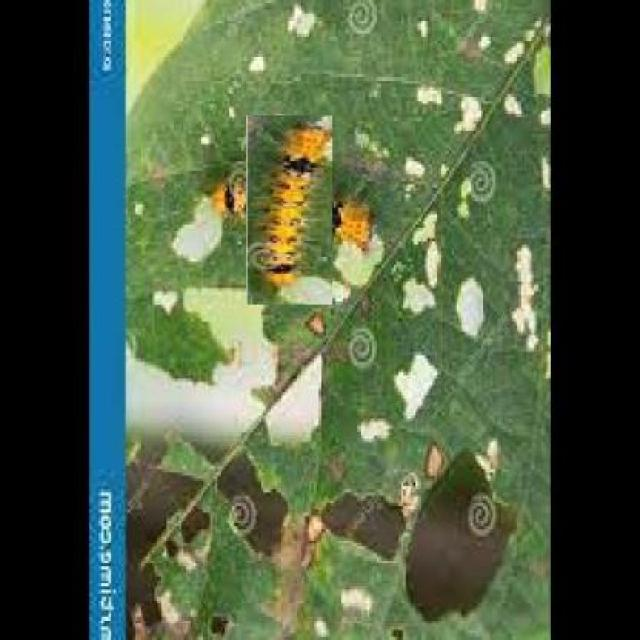Plaga: (221, 140, 361, 279)
